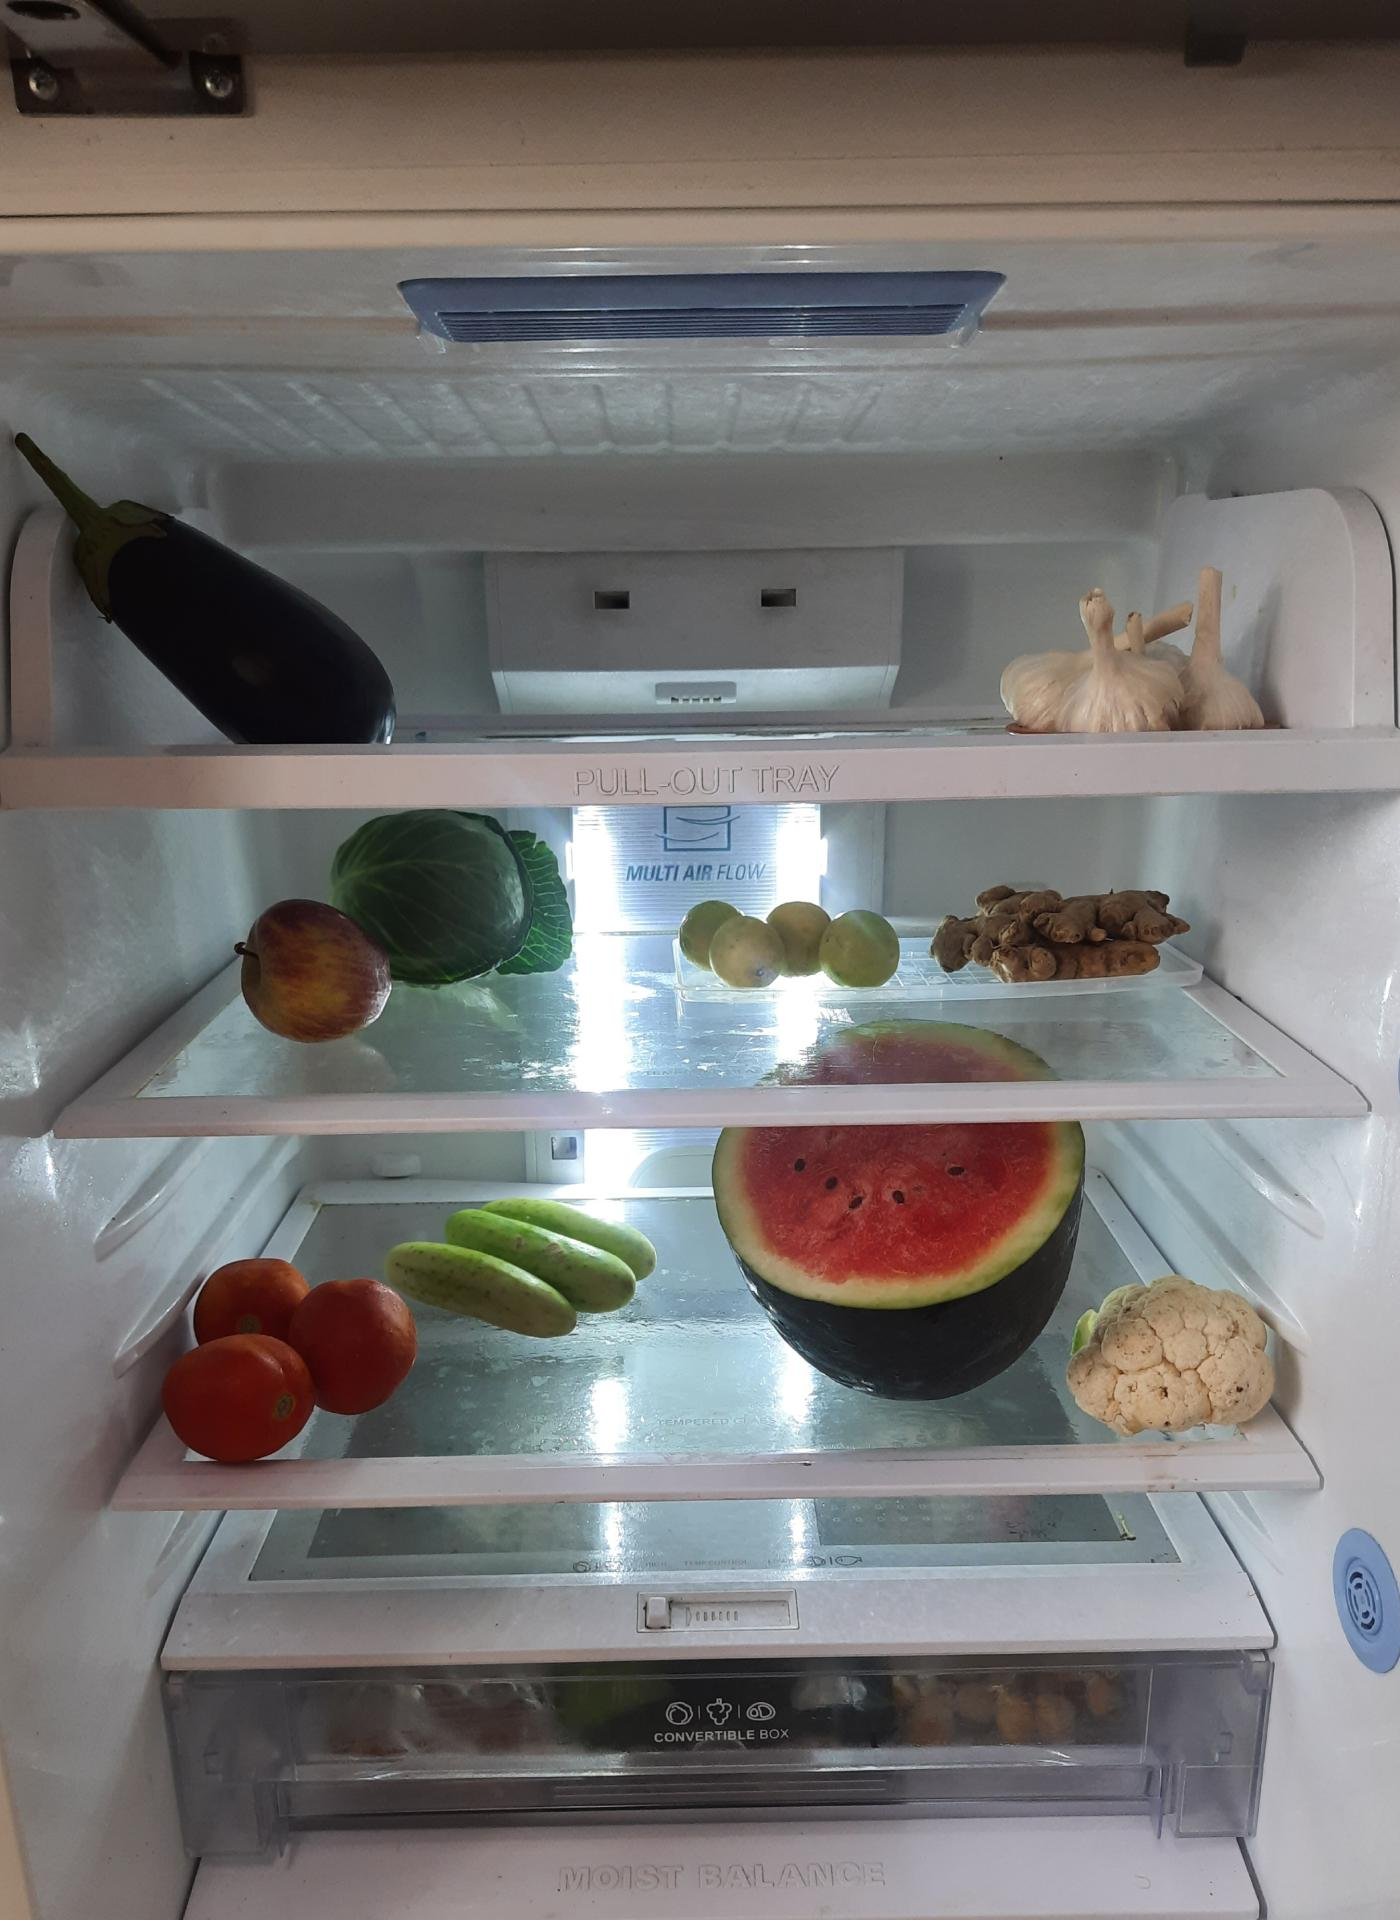apple: (247, 900, 398, 1052)
brinjal: (24, 426, 401, 739)
cabbage: (321, 818, 578, 988)
cauliflower: (1069, 1275, 1296, 1441)
cucumber: (374, 1201, 655, 1327)
garlic: (1002, 575, 1276, 735)
ginger: (933, 878, 1191, 984)
lemon: (674, 894, 899, 988)
tomato: (168, 1254, 426, 1458)
watermelon: (719, 1033, 1094, 1403)
